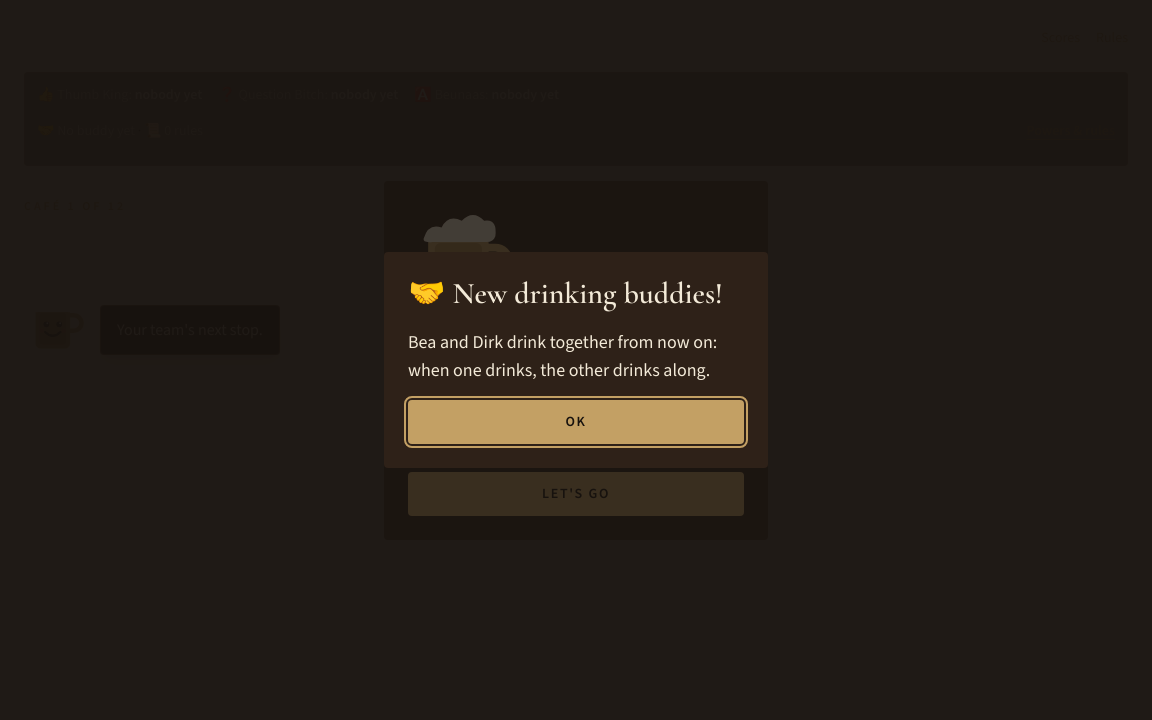
powers, buddies and rules › popups: new buddies and buddy sips reach every phone, also in another team
This screenshot has width=1152, height=720.
Click the button "OK". click: (576, 422)
box: [408,400,744,444]
Wait 2000 ms
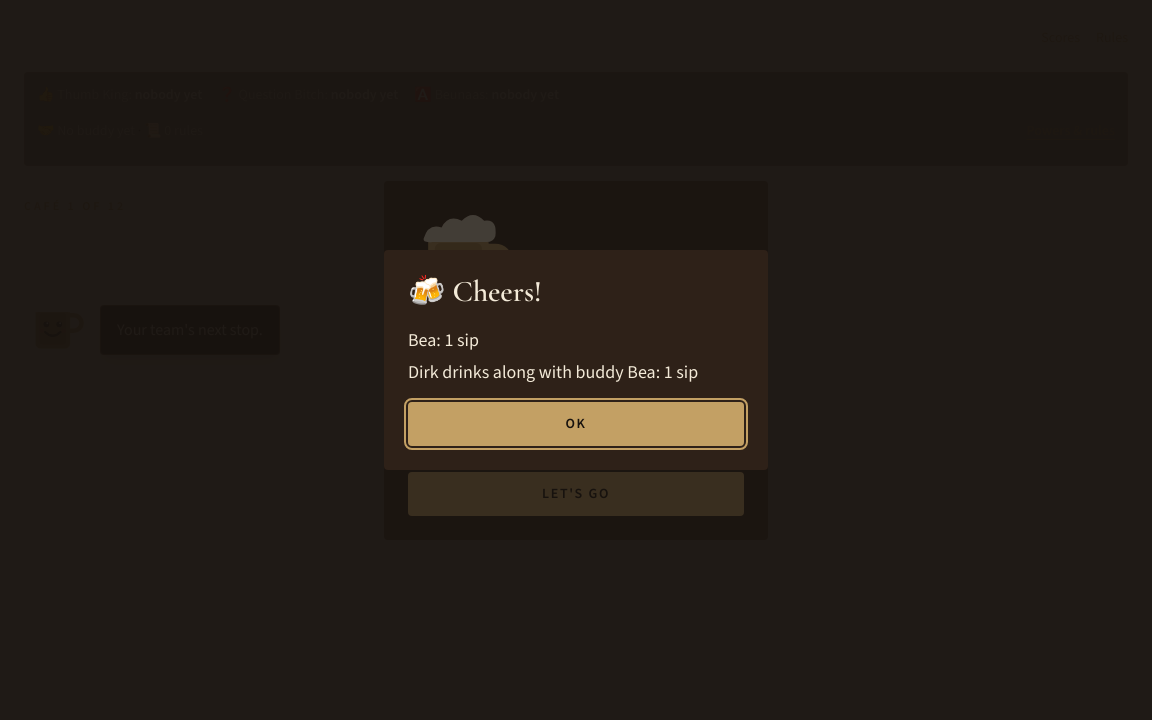
Result: the heading "New drinking buddies!" is gone
